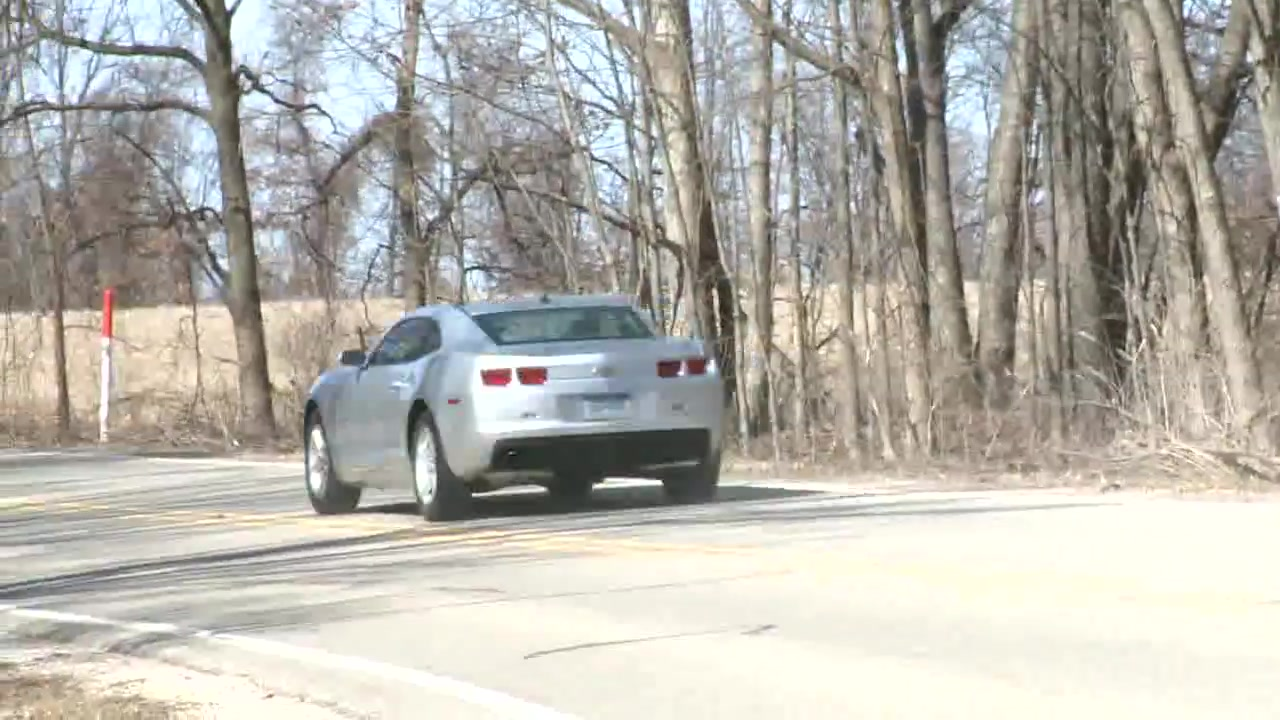car: (294, 299, 734, 517)
